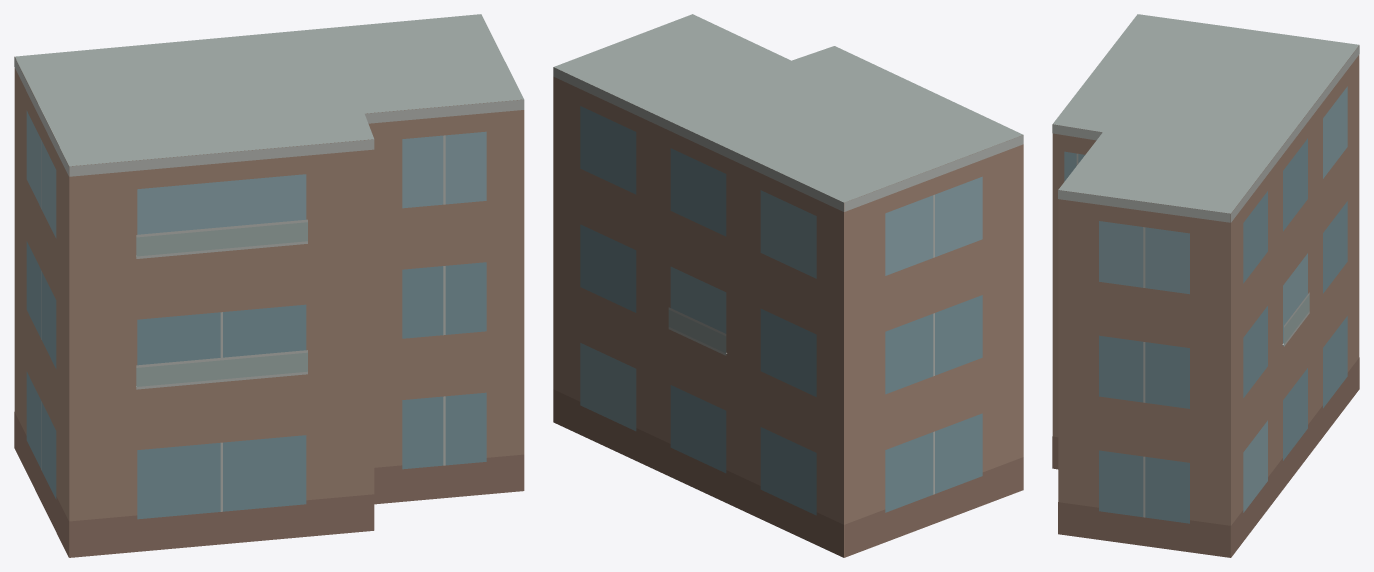
The model's file is survey-upis-32520164.glb.
3 renders of one model, left to right at view 1: azimuth 30°, elevation 25°; view 2: azimuth 150°, elevation 25°; view 3: azimuth 270°, elevation 25°, orthographic. The views are drawn at different scales.
Parts seen in each view (by area): view 1: survey-upis-32520164.tmp; view 2: survey-upis-32520164.tmp; view 3: survey-upis-32520164.tmp.
Boxes of the visible parts, x1,y1,x2,y2 form: survey-upis-32520164.tmp: (14,14,524,557); survey-upis-32520164.tmp: (553,14,1023,557); survey-upis-32520164.tmp: (1052,14,1359,557).
Bounding box in the file's own units: 11.39 × 9.15 × 7.41.
